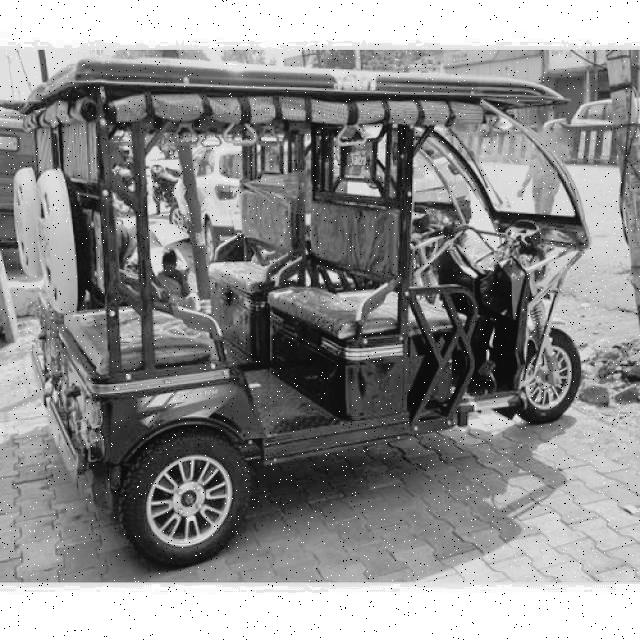Toto: (28, 57, 606, 571)
